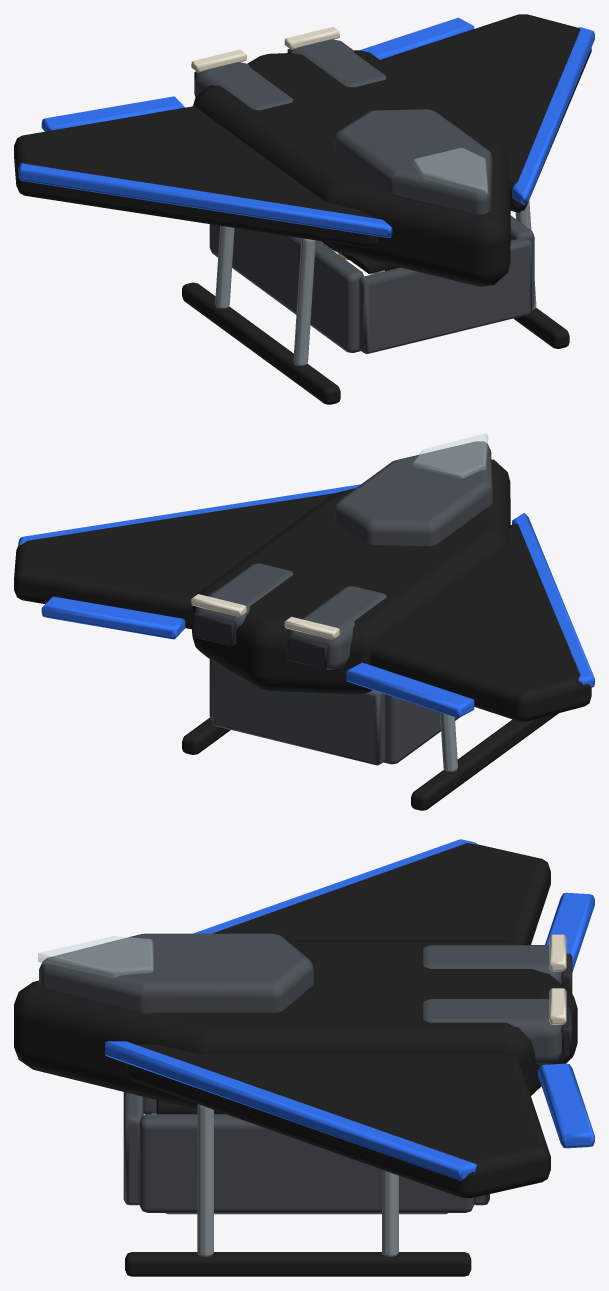
The model's file is stealth_bomber.glb.
3 renders of one model, top to bottom at view 1: azimuth 30°, elevation 25°; view 2: azimuth 150°, elevation 25°; view 3: azimuth 270°, elevation 25°, orthographic. The views are drawn at different scales.
Parts seen in each view (by area): view 1: airframe__M_Licorice, airframe__M_SmokePlastic, airframe__M_Team, sb_skid_r__M_Licorice, sb_skid_r__M_SpringSteel, airframe__M_FrostGlass, sb_elevon_r__M_Team, sb_elevon_l__M_Team, airframe__M_CreamPlastic, sb_skid_l__M_Licorice; view 2: airframe__M_Licorice, airframe__M_SmokePlastic, airframe__M_Team, sb_skid_r__M_Licorice, sb_elevon_l__M_Team, sb_elevon_r__M_Team, airframe__M_Dark, airframe__M_FrostGlass, airframe__M_CreamPlastic, sb_skid_l__M_Licorice, sb_skid_r__M_SpringSteel; view 3: airframe__M_Licorice, airframe__M_SmokePlastic, airframe__M_Team, sb_skid_l__M_Licorice, sb_skid_l__M_SpringSteel, airframe__M_FrostGlass, sb_elevon_l__M_Team, sb_elevon_r__M_Team, airframe__M_CreamPlastic, airframe__M_Dark.
Part boxes in pixels (x1,y1,x2,y2): airframe__M_Licorice: [14, 14, 591, 286]; airframe__M_SmokePlastic: [194, 39, 534, 353]; airframe__M_Team: [18, 27, 594, 237]; sb_skid_r__M_Licorice: [182, 282, 340, 404]; sb_skid_r__M_SpringSteel: [215, 225, 315, 365]; airframe__M_FrostGlass: [412, 148, 487, 195]; sb_elevon_r__M_Team: [41, 96, 184, 131]; sb_elevon_l__M_Team: [360, 17, 474, 59]; airframe__M_CreamPlastic: [191, 27, 339, 72]; sb_skid_l__M_Licorice: [513, 307, 569, 348]; airframe__M_Licorice: [14, 459, 591, 721]; airframe__M_SmokePlastic: [194, 441, 492, 765]; airframe__M_Team: [18, 484, 594, 687]; sb_skid_r__M_Licorice: [411, 713, 558, 810]; sb_elevon_l__M_Team: [41, 596, 185, 639]; sb_elevon_r__M_Team: [346, 662, 474, 718]; airframe__M_Dark: [194, 612, 329, 669]; airframe__M_FrostGlass: [412, 433, 487, 478]; airframe__M_CreamPlastic: [191, 594, 339, 639]; sb_skid_l__M_Licorice: [182, 717, 230, 754]; sb_skid_r__M_SpringSteel: [440, 712, 457, 771]; airframe__M_Licorice: [14, 843, 577, 1198]; airframe__M_SmokePlastic: [39, 933, 561, 1212]; airframe__M_Team: [105, 839, 476, 1180]; sb_skid_l__M_Licorice: [125, 1252, 471, 1276]; sb_skid_l__M_SpringSteel: [197, 1104, 398, 1256]; airframe__M_FrostGlass: [38, 936, 153, 977]; sb_elevon_l__M_Team: [538, 1063, 594, 1148]; sb_elevon_r__M_Team: [545, 892, 594, 972]; airframe__M_CreamPlastic: [549, 934, 566, 1024]; airframe__M_Dark: [561, 953, 572, 1055].
Size of the model in its own units: 1.35 by 0.49 by 1.01.
